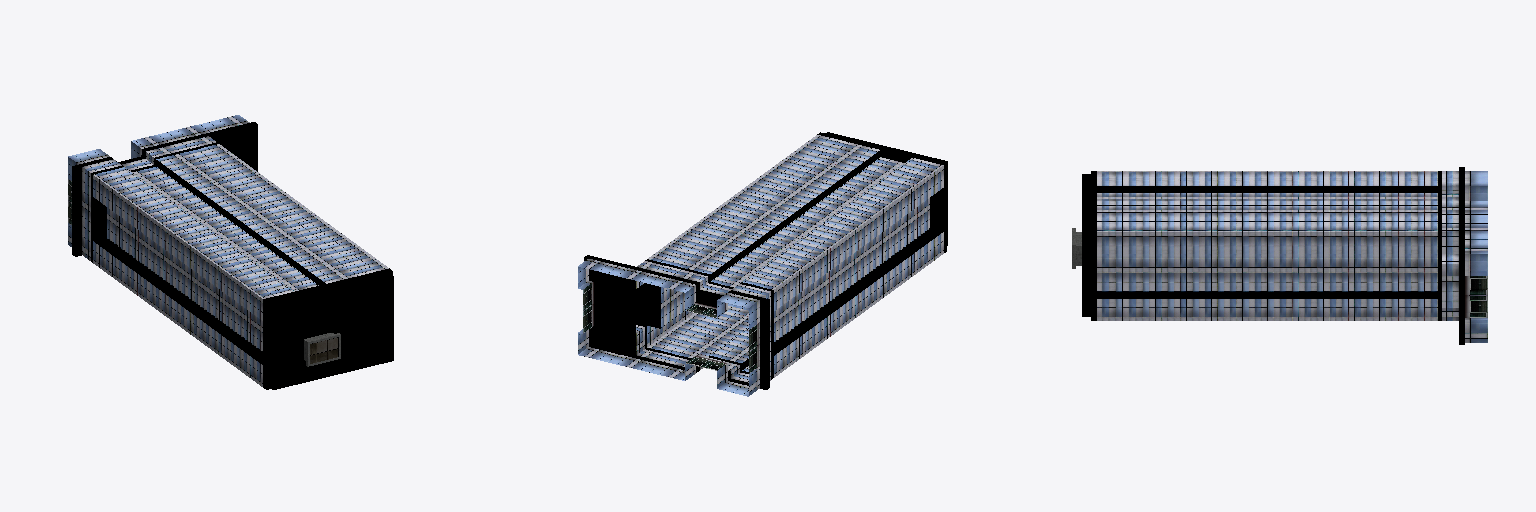
3 views of the same model, side by side, from view 1: azimuth 30°, elevation 25°; view 2: azimuth 150°, elevation 25°; view 3: azimuth 270°, elevation 25° (orthographic).
Parts seen in each view (by area): view 1: Object01; view 2: Object01; view 3: Object01.
Boxes of the visible parts, x1,y1,x2,y2 form: Object01: [68, 115, 393, 389]; Object01: [578, 132, 947, 396]; Object01: [1072, 167, 1487, 344].
Size of the model in its own units: 67.76 by 31.37 by 133.
5 materials, 4 textured.